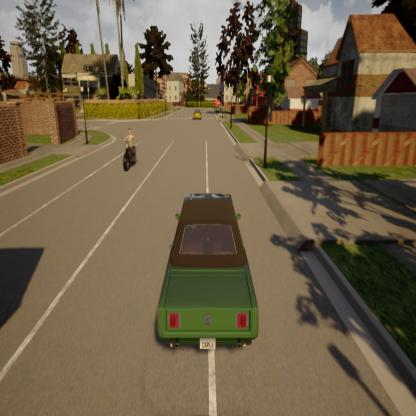Cars: (144, 185, 264, 362)
